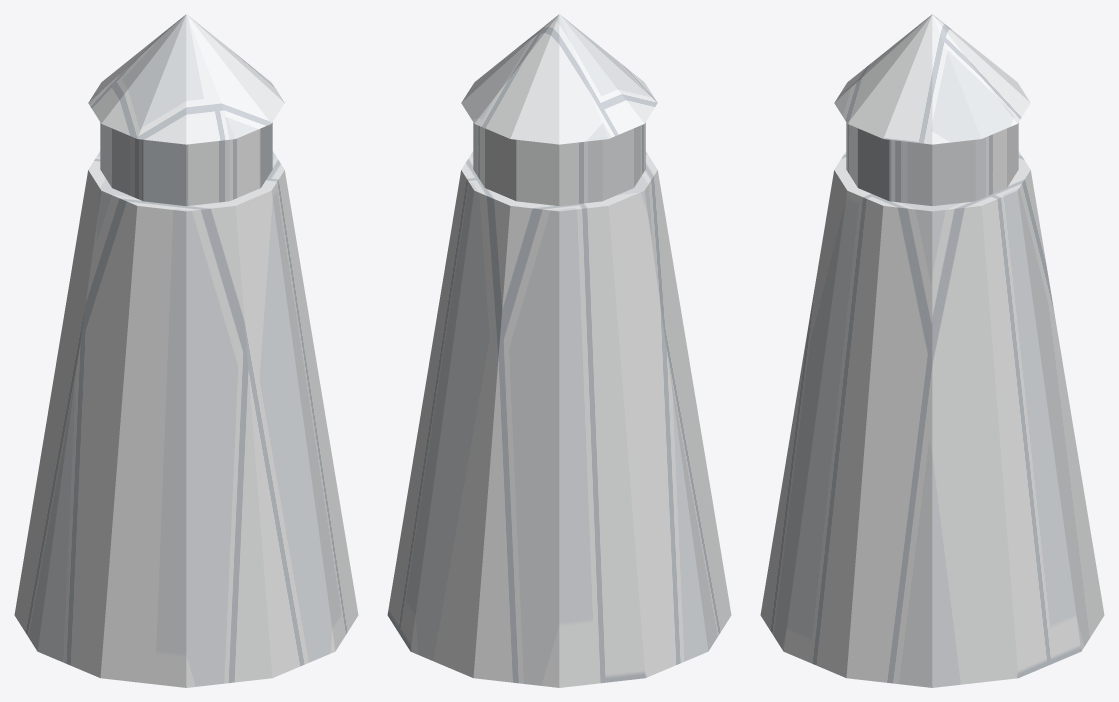
File: building_lighthouse.glb
The picture shows the model from 3 angles, left to right: view 1: azimuth 30°, elevation 25°; view 2: azimuth 150°, elevation 25°; view 3: azimuth 270°, elevation 25°; orthographic projection.
Visible parts, largest first — view 1: building_lighthouse; view 2: building_lighthouse; view 3: building_lighthouse.
Boxes of the visible parts, x1,y1,x2,y2 form: building_lighthouse: (14, 14, 358, 687); building_lighthouse: (387, 14, 731, 687); building_lighthouse: (760, 14, 1104, 687).
Bounding box in the file's own units: 2.8 × 5.4 × 2.8.
1 material, 1 textured.
